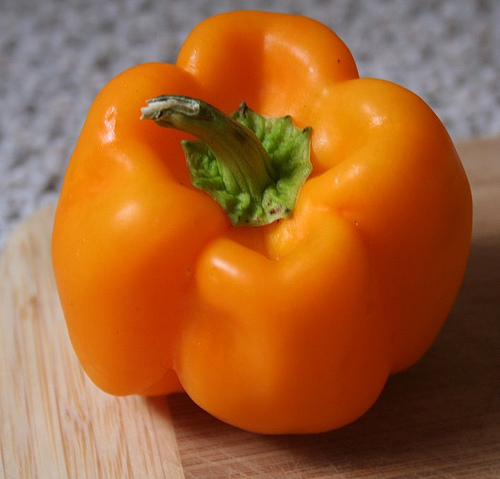capsicum: (45, 1, 490, 445)
